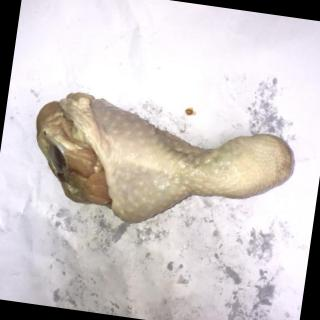Ayam: (24, 86, 299, 246)
